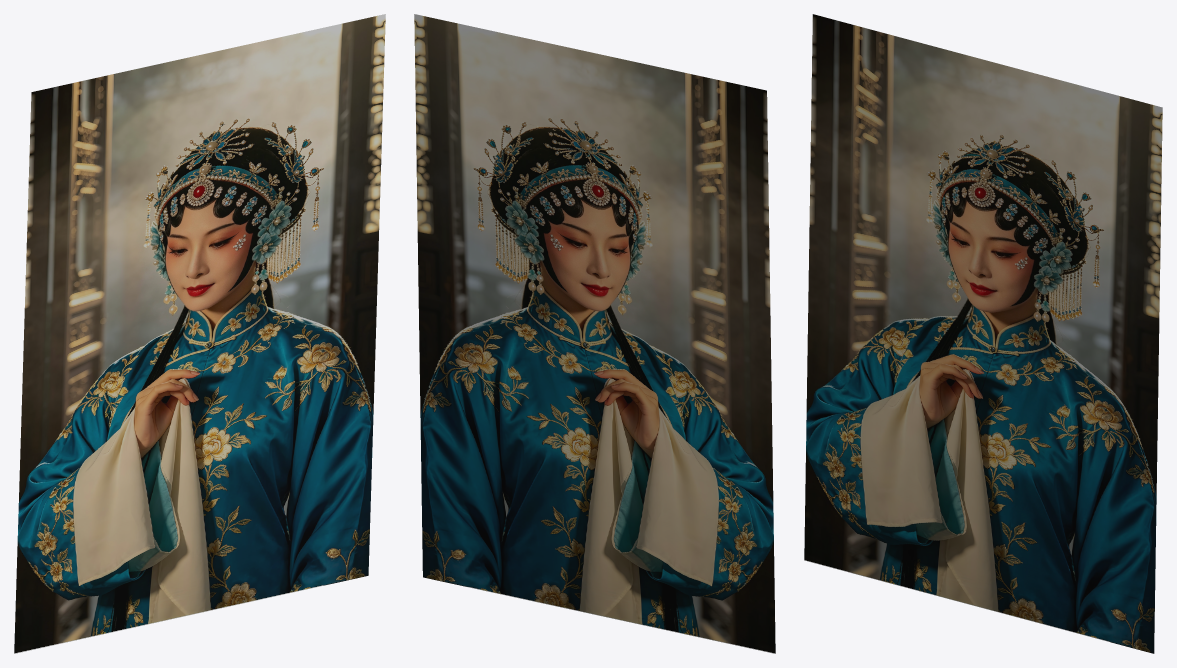
File: hao (2).glb
3 renders of one model, left to right at view 1: azimuth 30°, elevation 25°; view 2: azimuth 150°, elevation 25°; view 3: azimuth 330°, elevation 25°, orthographic.
Parts seen in each view (by area): view 1: 平面; view 2: 平面; view 3: 平面.
Boxes of the visible parts, x1=… form: 平面: x1=14, y1=14, x2=385, y2=653; 平面: x1=414, y1=14, x2=775, y2=653; 平面: x1=804, y1=14, x2=1162, y2=653.
Bounding box in the file's own units: 2.07 × 3.07 × 0.0483.
Materials: 1 (1 with a texture image).
